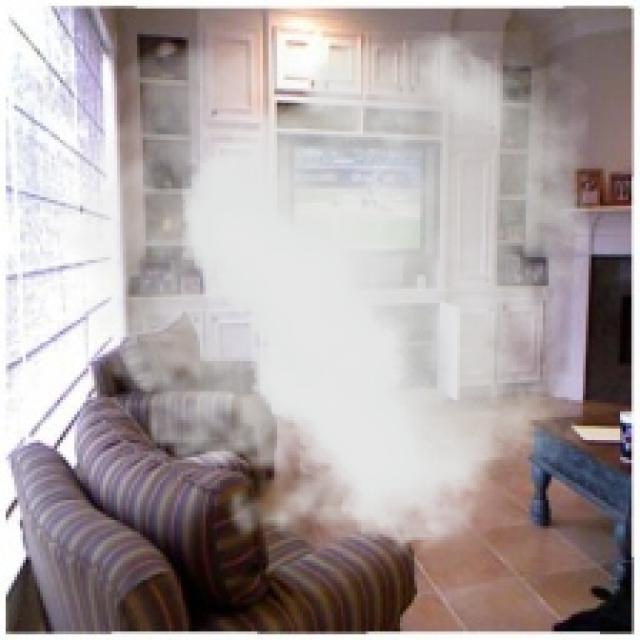smoke: (37, 31, 589, 572)
